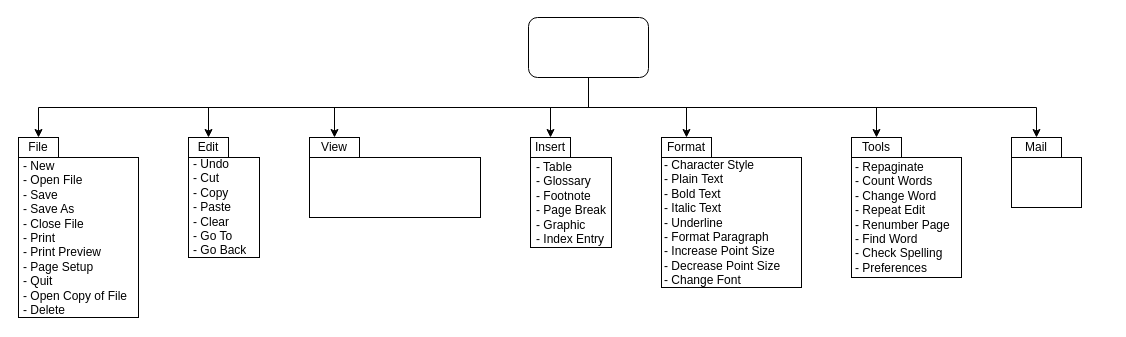
The diagram is 1126 pixels wide and 337 high, and some of its shapes have lost their labels. Each missing label, with the box of its shape:
- Open Mail - Send Mail - Help: (1010, 156, 1082, 208)
- View Page - View Index - See Table of Contents - Show Alternative Document: (308, 156, 480, 218)
Main Menu: (528, 16, 648, 78)
